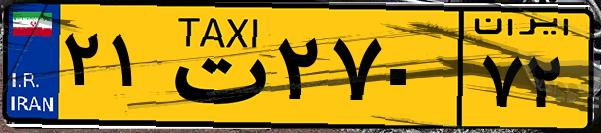0: (385, 28, 445, 110)
1: (110, 28, 158, 98)
2: (270, 28, 330, 110), (57, 26, 110, 100), (525, 38, 570, 115)
7: (330, 28, 385, 110), (475, 38, 525, 113)
ت: (158, 12, 270, 120)
